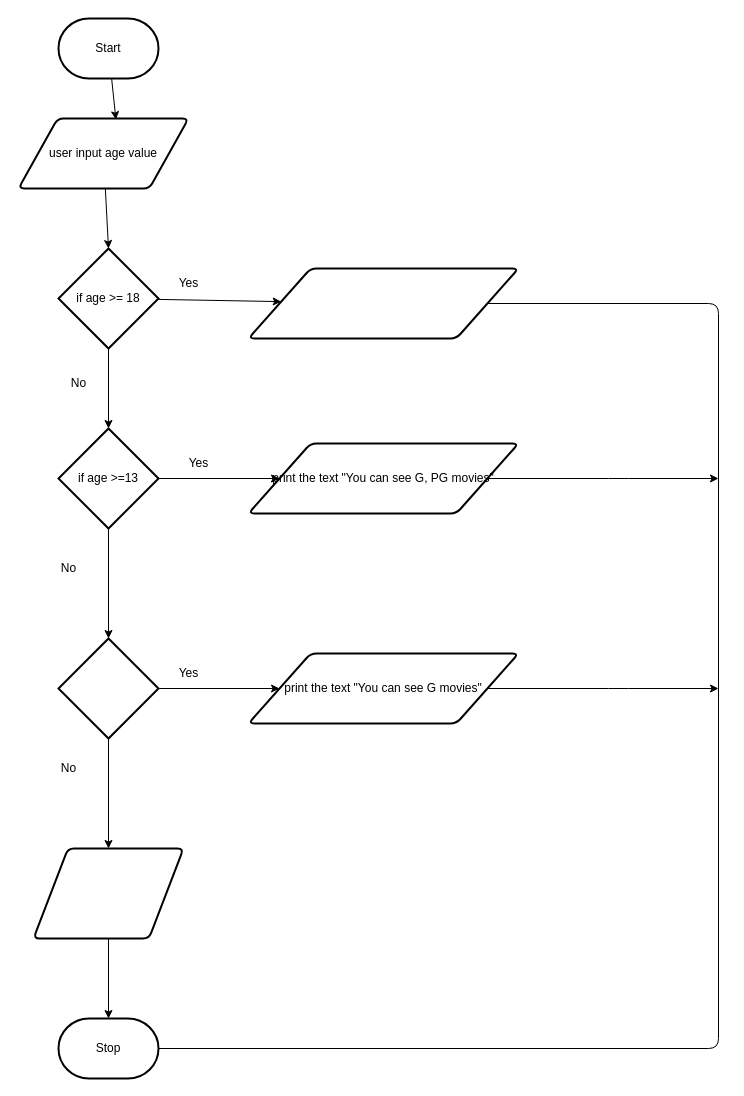
The diagram is 744 pixels wide and 1096 high, and some of its shapes have lost their labels. The centre of each missing label's shape, as x and y in pixels:
"Error": point 108,893
if age <= 12: point 108,688
print the text "You can see G, PG, R movies": point 383,303
